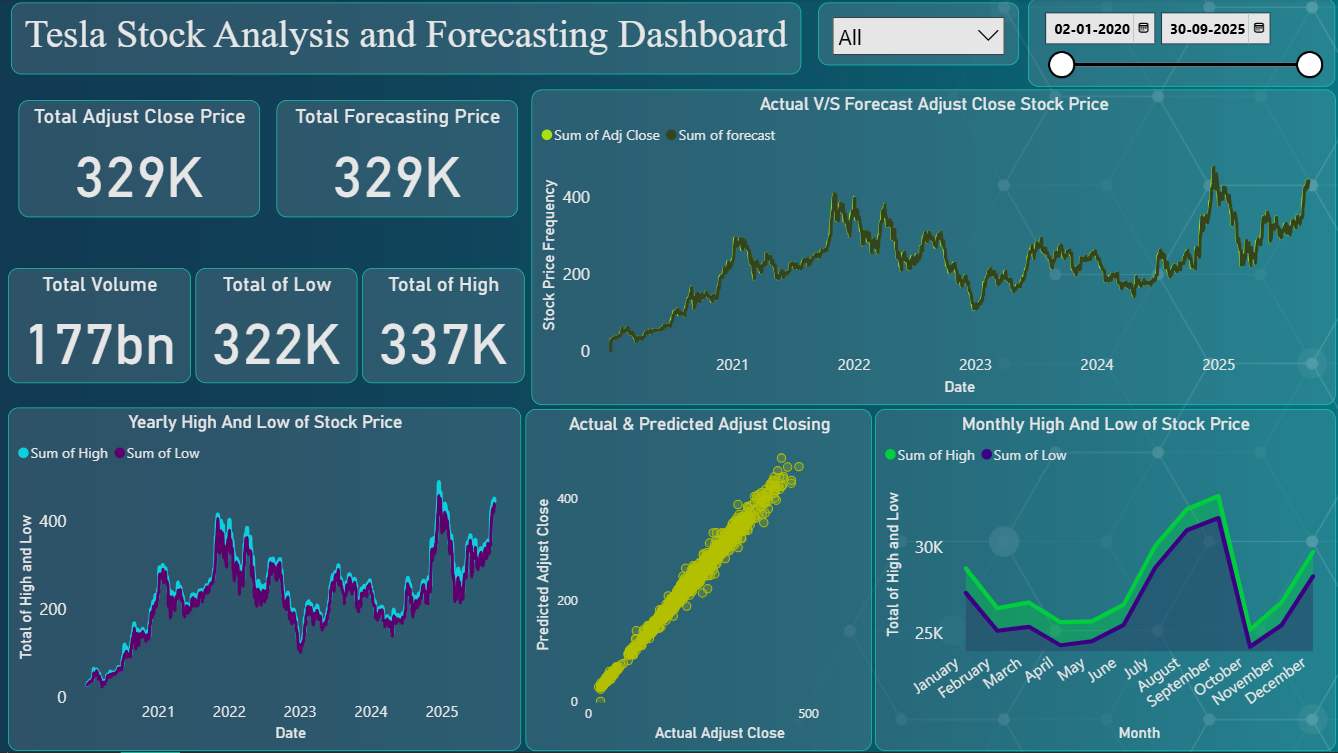

What the dashboard file says about the page in this screenshot:
{"tool":"powerbi","page":{"name":"Page 1","canvas":[1280,720],"ordinal":0},"visuals":[{"type":"lineChart","title":"Yearly High And Low of Stock Price ","fields":{"Category":["Cleaned_Financial Data.Date"],"Y":["Sum(Cleaned_Financial Data.High)","Sum(Cleaned_Financial Data.Low)"]},"box":[8.6,391,489.9,328],"z":0},{"type":"lineChart","title":"Monthly High And Low of Stock Price","fields":{"Y":["Sum(Cleaned_Financial Data.High)","Sum(Cleaned_Financial Data.Low)"],"Category":["Forecast_Financial Data.Date.Variation.Date Hierarchy.Month"]},"box":[836.5,392.5,439.7,326.6],"z":1000},{"type":"lineChart","title":"Actual V/S Forecast Adjust Close Stock Price ","fields":{"Category":["Cleaned_Financial Data.Date"],"Y":["Sum(Forecast_Financial Data.Adj Close)","Sum(Forecast_Financial Data.forecast)"]},"box":[509,87.4,767.8,301],"z":2000},{"type":"slicer","fields":{"Values":["Cleaned_Financial Data.Date"]},"box":[982.6,0,293.6,84.5],"z":3000},{"type":"slicer","fields":{"Values":["Forecast_Financial Data.Date.Variation.Date Hierarchy.Year"]},"box":[782.1,4.3,191.9,60.2],"z":4000},{"type":"card","title":"Total Volume ","fields":{"Values":["Sum(Cleaned_Financial Data.Volume)"]},"box":[8.6,257.8,174.8,110.3],"z":5000},{"type":"card","title":"Total of High","fields":{"Values":["Sum(Cleaned_Financial Data.High)"]},"box":[346.6,257.8,155,110.3],"z":6000},{"type":"card","title":"Total of Low ","fields":{"Values":["Sum(Cleaned_Financial Data.Low)"]},"box":[187.6,257.8,154.7,110.3],"z":7000},{"type":"card","title":"Total Adjust Close Price","fields":{"Values":["Sum(Forecast_Financial Data.Adj Close)"]},"box":[18.6,97.4,230.6,111.7],"z":8000},{"type":"card","title":"Total Forecasting Price","fields":{"Values":["Sum(Forecast_Financial Data.forecast)"]},"box":[265,97.4,230.6,111.7],"z":9000},{"type":"scatterChart","title":"Actual & Predicted Adjust Closing","fields":{"Category":["Cleaned_Financial Data.Date"],"X":["Sum(Forecast_Financial Data.Adj Close)"],"Y":["Sum(Forecast_Financial Data.forecast)"]},"box":[502.8,392.5,330.9,326.6],"z":10000},{"type":"textbox","box":[11.5,4.3,754.9,68.8],"z":11000}]}

Visuals, with their boxes in screenshot pixels (x1, y1, x2, y2), scaled from the page's 1280x720 canvas onto the 1338x753 screenshot:
"Yearly High And Low of Stock Price " lineChart: 9, 409, 521, 752
"Monthly High And Low of Stock Price" lineChart: 874, 410, 1334, 752
"Actual V/S Forecast Adjust Close Stock Price " lineChart: 532, 91, 1335, 406
slicer - Cleaned_Financial Data.Date: 1027, 0, 1334, 88
slicer - Forecast_Financial Data.Date.Variation.Date Hierarchy.Year: 818, 4, 1018, 67
"Total Volume " card: 9, 270, 192, 385
"Total of High" card: 362, 270, 524, 385
"Total of Low " card: 196, 270, 358, 385
"Total Adjust Close Price" card: 19, 102, 260, 219
"Total Forecasting Price" card: 277, 102, 518, 219
"Actual & Predicted Adjust Closing" scatterChart: 526, 410, 871, 752
textbox: 12, 4, 801, 76
